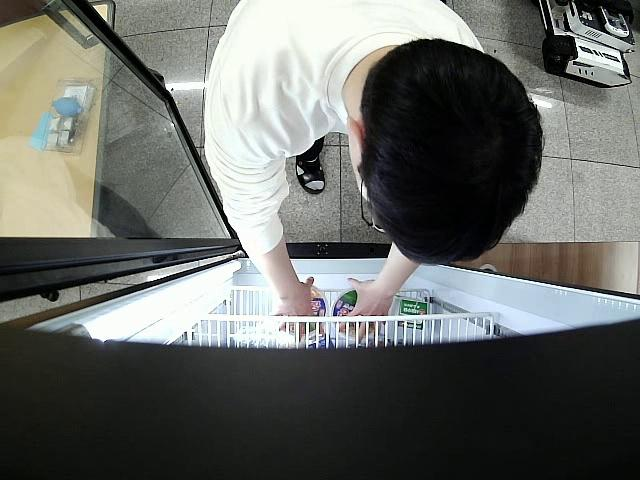00_hand: (269, 277, 325, 342), (339, 277, 387, 340)
09_yukGaeJang: (279, 285, 328, 337), (330, 290, 376, 338)
